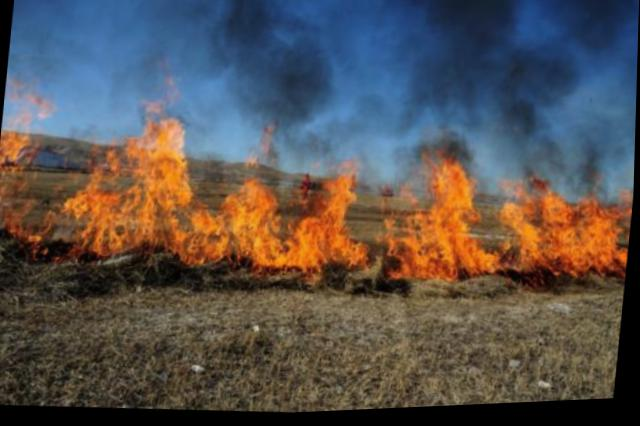fire: (0, 92, 636, 317)
